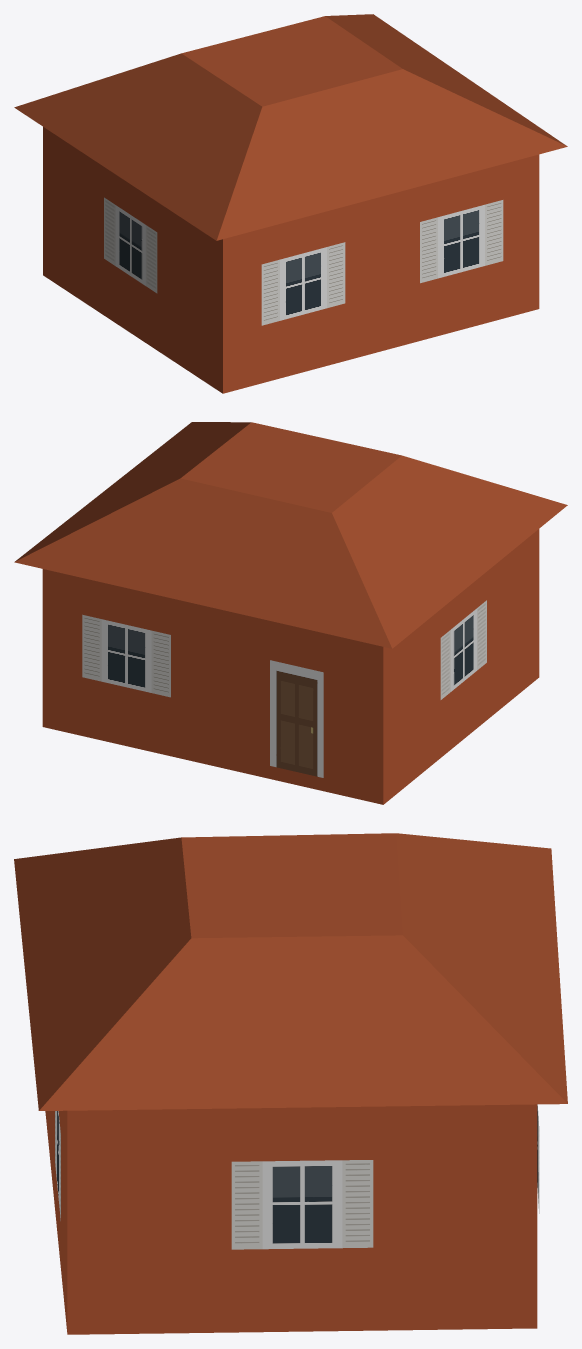
Rendered from msb_sannicolas_23_23.glb.
3 renders of one model, top to bottom at view 1: azimuth 30°, elevation 25°; view 2: azimuth 150°, elevation 25°; view 3: azimuth 270°, elevation 25°, orthographic. The views are drawn at different scales.
Visible parts, largest first — view 1: msb_sannicolas_23_23_lod0; view 2: msb_sannicolas_23_23_lod0; view 3: msb_sannicolas_23_23_lod0.
Part boxes in pixels (left/top/right/bottom): msb_sannicolas_23_23_lod0: left=14, top=14, right=567, bottom=393; msb_sannicolas_23_23_lod0: left=14, top=422, right=567, bottom=804; msb_sannicolas_23_23_lod0: left=14, top=833, right=567, bottom=1334.
Size of what is drawn, in the model's own units: 8.33 by 4.9 by 7.43.
2 materials, 1 textured.
